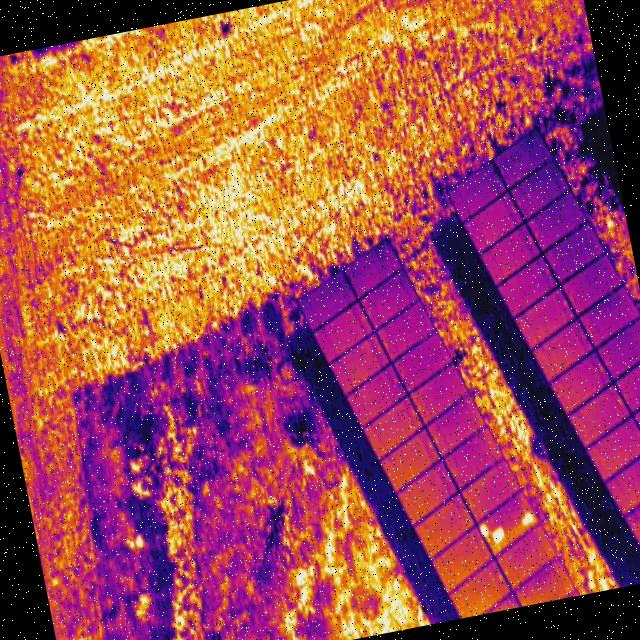Hotspot: (519, 510, 536, 528), (489, 526, 506, 544), (479, 524, 489, 538)
